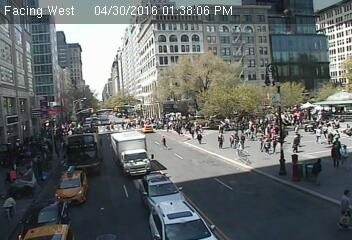neg: (163, 70, 179, 92), (196, 80, 212, 101), (179, 77, 192, 95), (221, 88, 233, 104), (254, 60, 265, 74), (279, 62, 289, 76), (107, 102, 116, 115), (213, 71, 221, 82), (212, 105, 219, 115)
pos: (329, 186, 351, 232), (214, 131, 228, 149), (157, 134, 170, 151), (195, 131, 205, 144)
